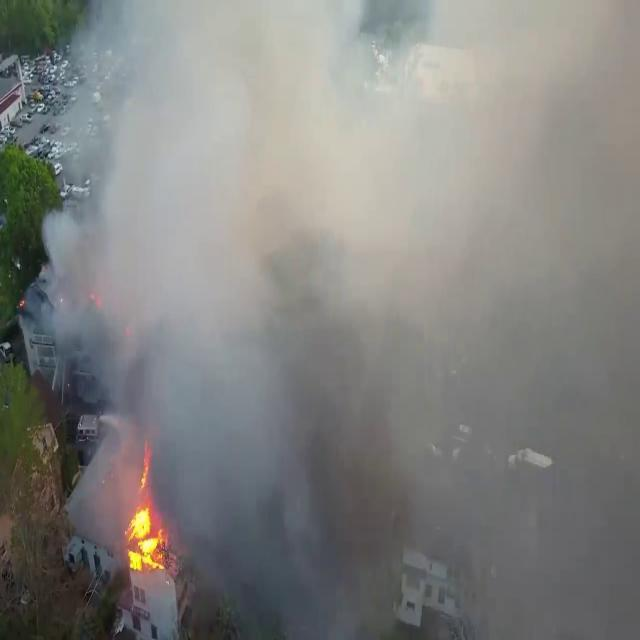Fire: (121, 483, 170, 576)
Smoke: (34, 1, 638, 638)
